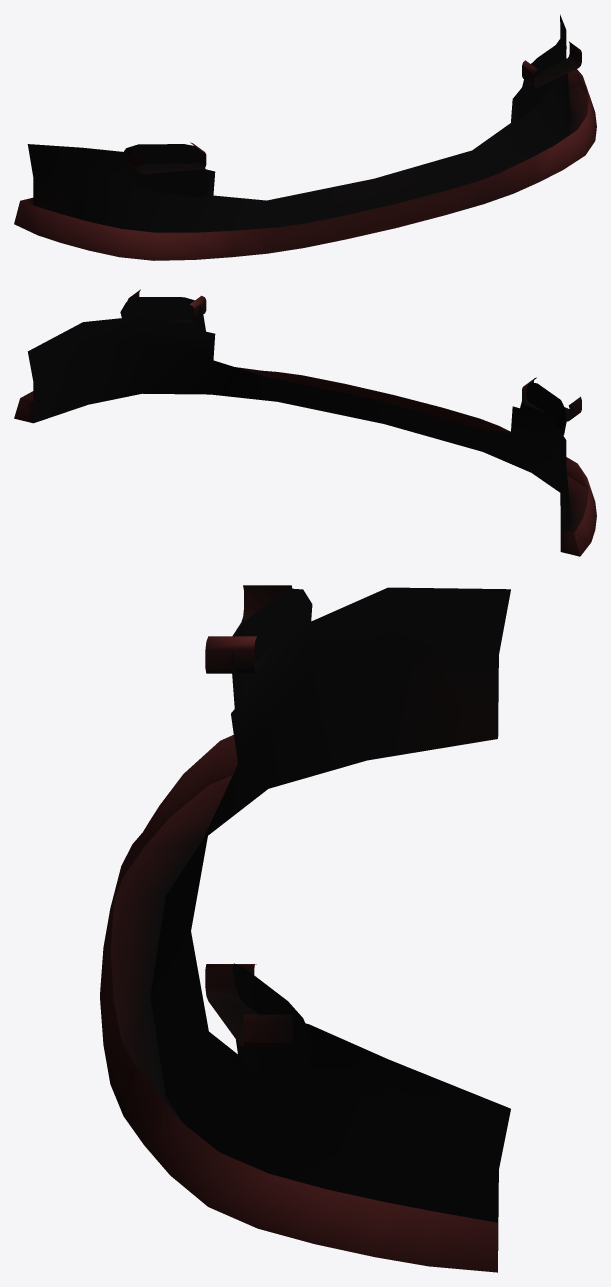
The model's file is Supra_FrontBar_01_Trim.fbx.
3 views of the same model, one above another, from view 1: azimuth 30°, elevation 25°; view 2: azimuth 150°, elevation 25°; view 3: azimuth 270°, elevation 25° (orthographic). The views are drawn at different scales.
Parts seen in each view (by area): view 1: Supra_FrontBar_01_Trim; view 2: Supra_FrontBar_01_Trim; view 3: Supra_FrontBar_01_Trim.
Boxes of the visible parts, x1,y1,x2,y2 form: Supra_FrontBar_01_Trim: (14, 14, 596, 260); Supra_FrontBar_01_Trim: (14, 289, 596, 556); Supra_FrontBar_01_Trim: (100, 585, 510, 1272).
Bounding box in the file's own units: 174 × 29.59 × 54.7.
